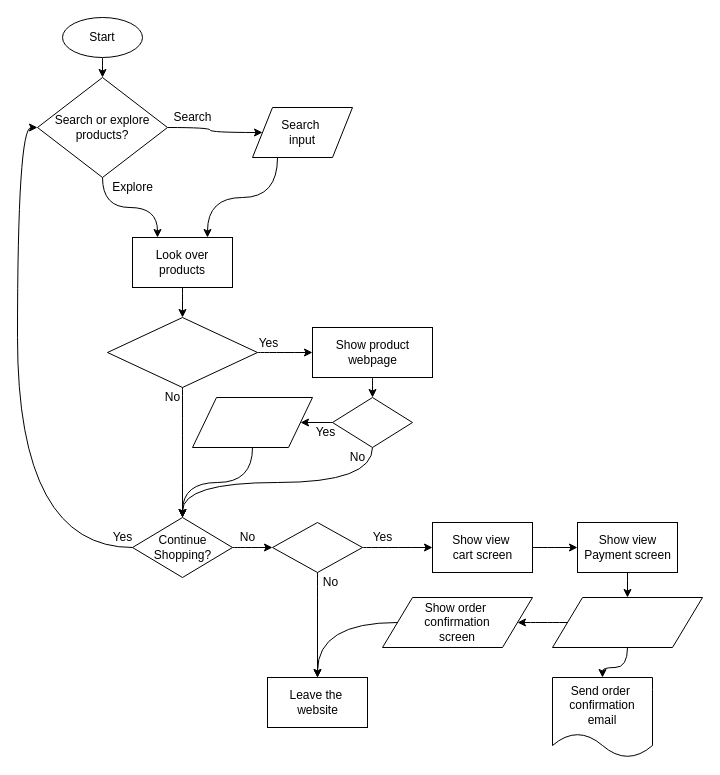
Image size: 720x775. Some labels were removed from this diagram. The shapes that lost their labels are listed below. From the top down, each one's centre as x and y in pixels, then its label:
point 182,352: View a specific product?
point 252,422: Show added to cart confirmation
point 372,422: Add to cart?
point 317,547: Checkout?
point 627,622: Enter payment information
